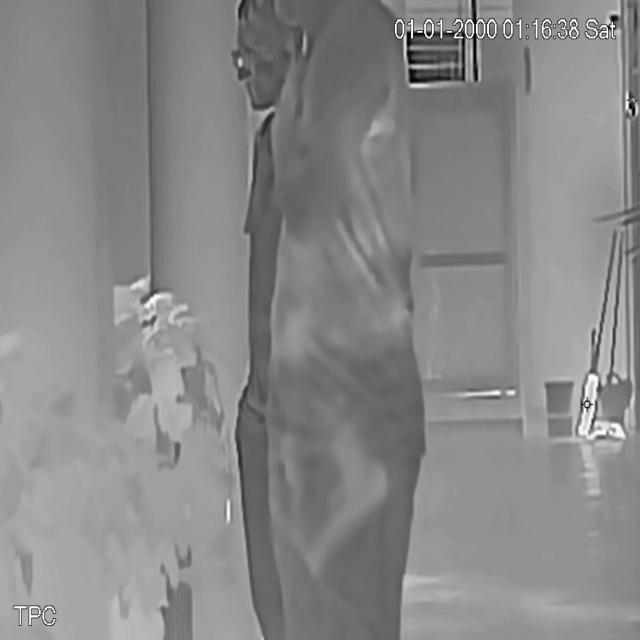Weapon: (297, 418, 398, 594)
